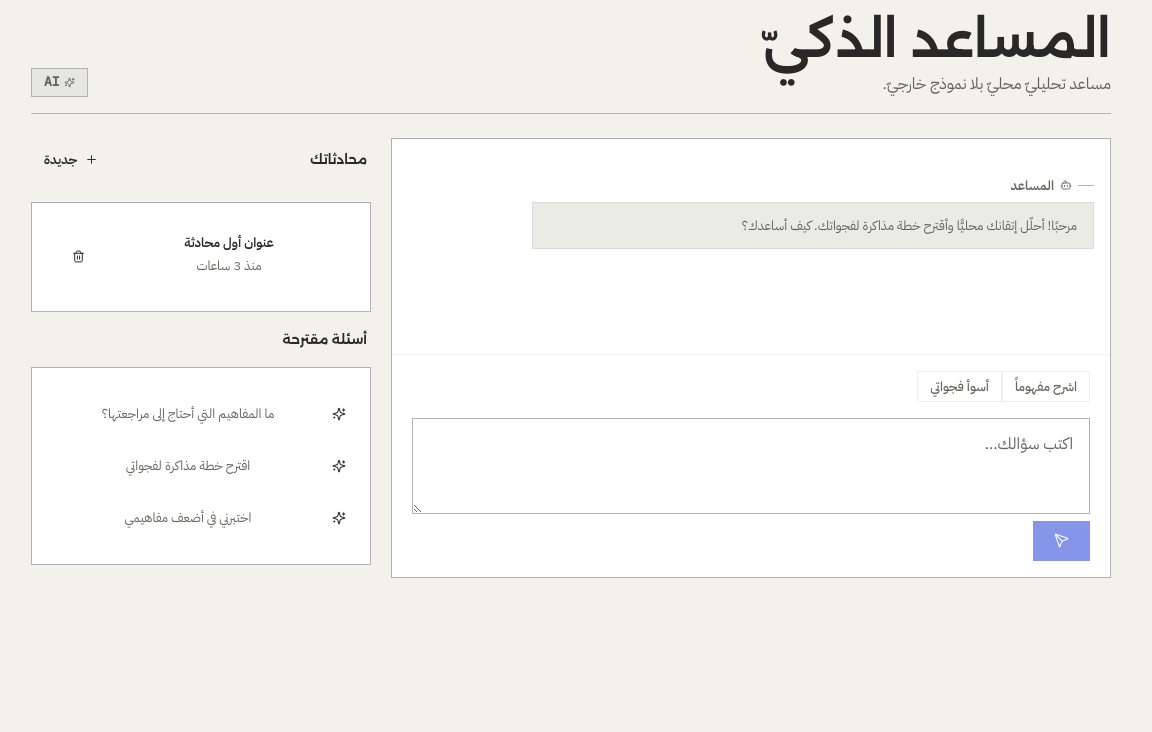
Test: AiAssistantPage — conversation management (r164g) › delete is a TWO-STEP confirm — the first click only asks; cancel reverts
Later steps or results of the test are not shown.
What coordinates should you click on to do the following:
click the button named "حذف محادثة: عنوان أول محادثة"
I would click on:
 (78, 256)
Its box is [56,234,100,278].
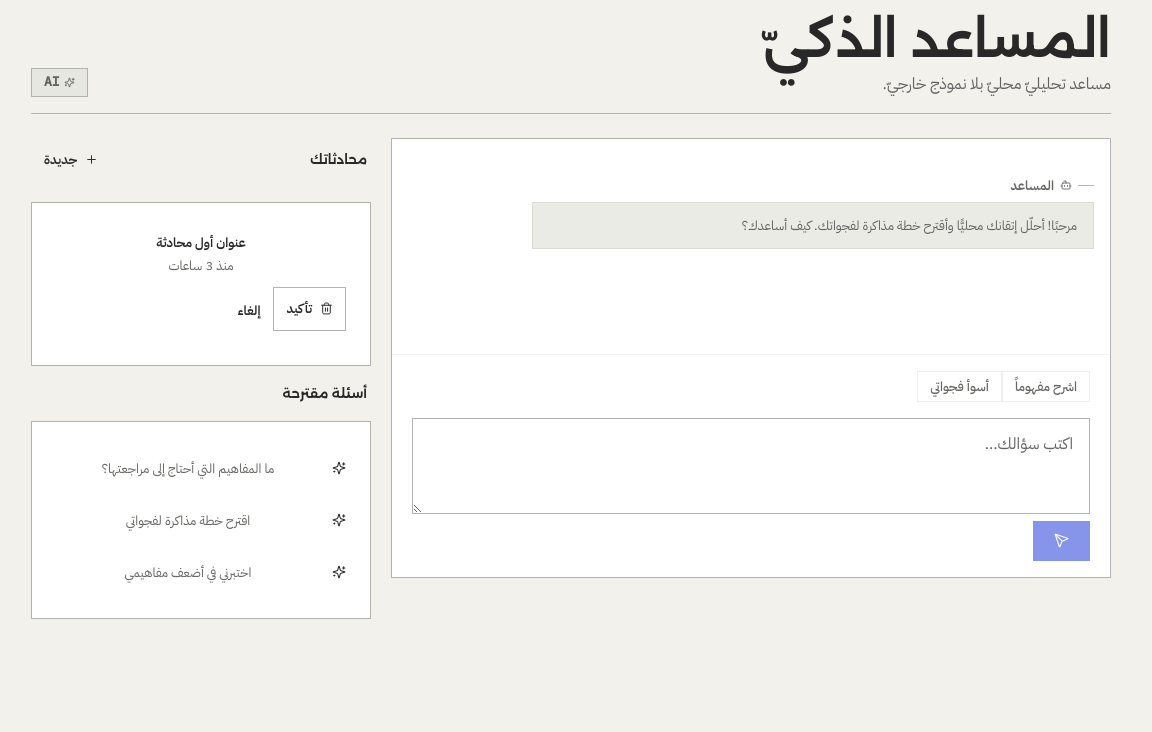
Expected: the button "تأكيد" is shown, [274,286,346,330]
What coordinates should you click on to do the following:
click the button "إلغاء"
I would click on:
 (249, 311)
Its box is [225,289,274,333].
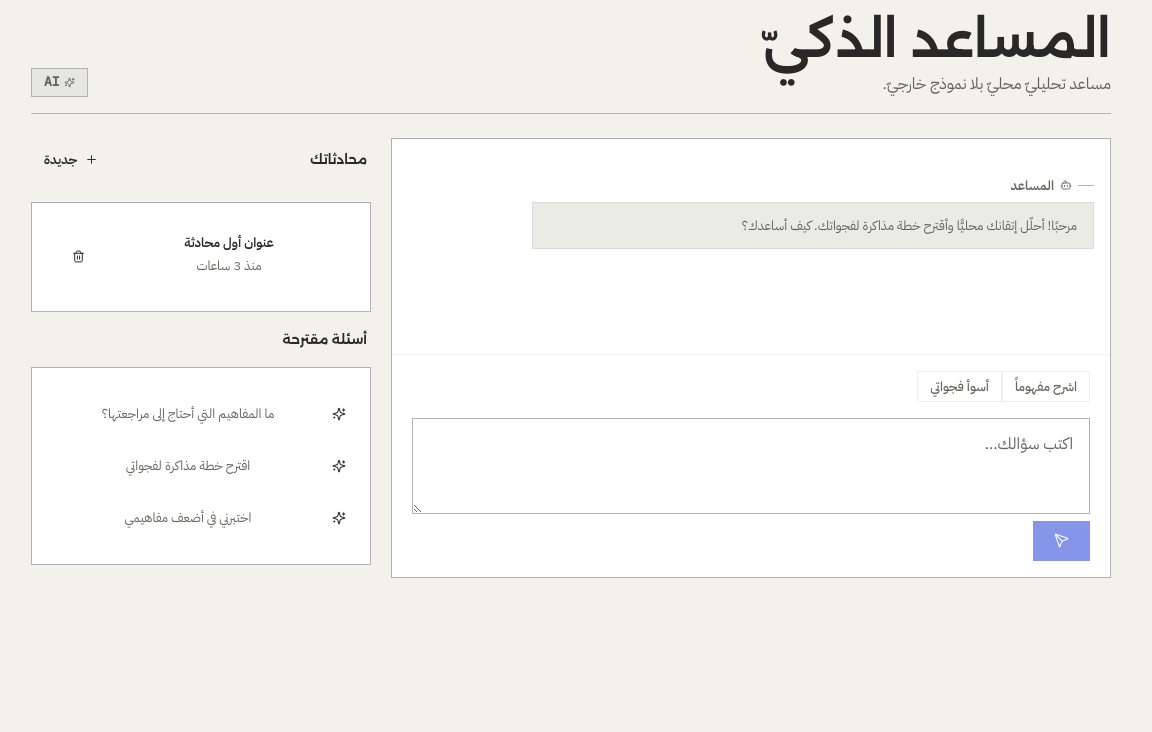
Expected: the button "تأكيد" is gone
Expected: the button named "حذف محادثة: عنوان أول محادثة" is shown, [56,234,100,278]
